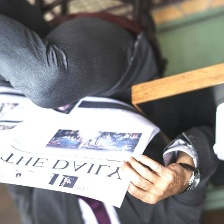news_paper: (0, 83, 166, 210)
